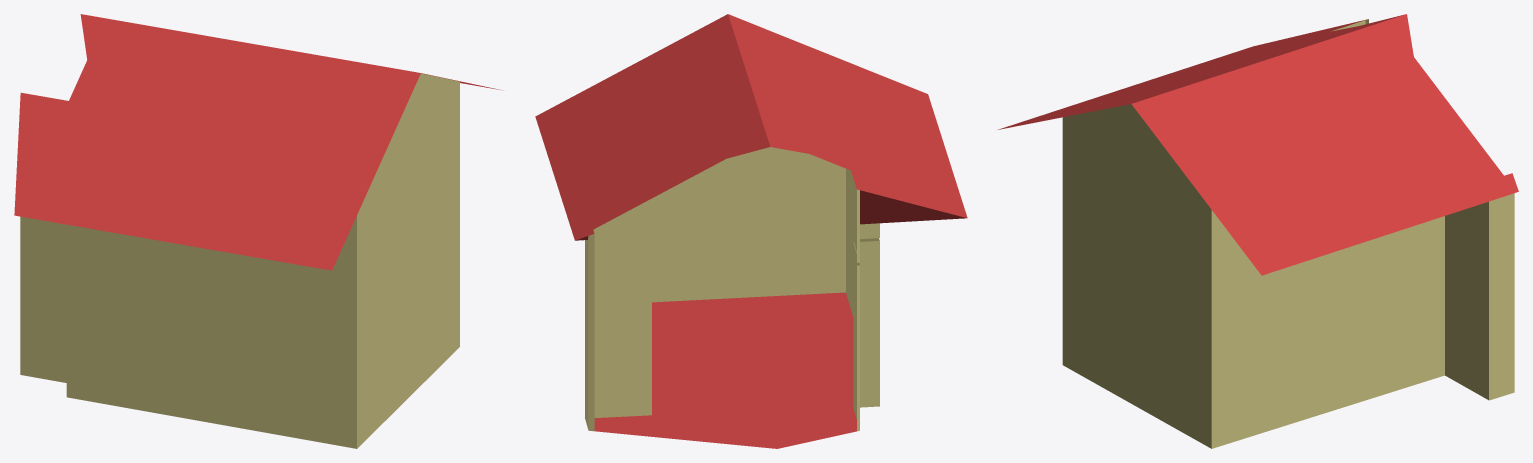
3 views of the same model, side by side, from view 1: azimuth 30°, elevation 25°; view 2: azimuth 150°, elevation 25°; view 3: azimuth 270°, elevation 25° (orthographic). The views are drawn at different scales.
Bounding box in the file's own units: 16.63 × 16.02 × 10.39.
